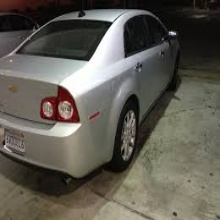no damage: (1, 8, 178, 186)
